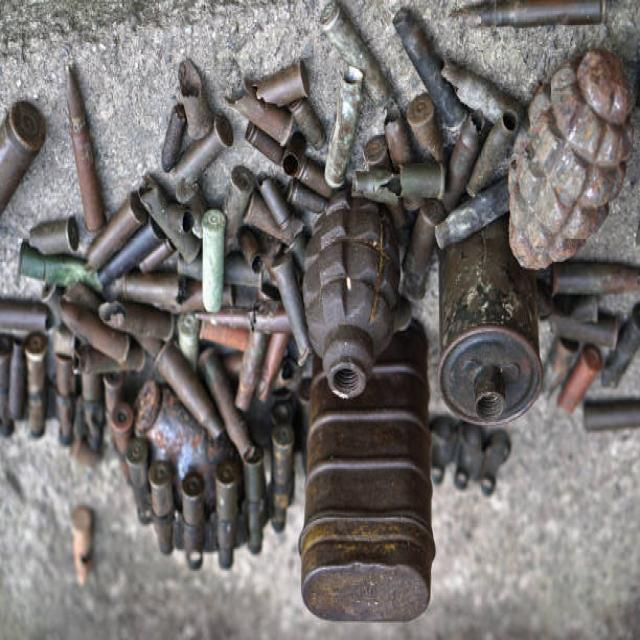grenade: (507, 41, 637, 275), (301, 192, 405, 402)
